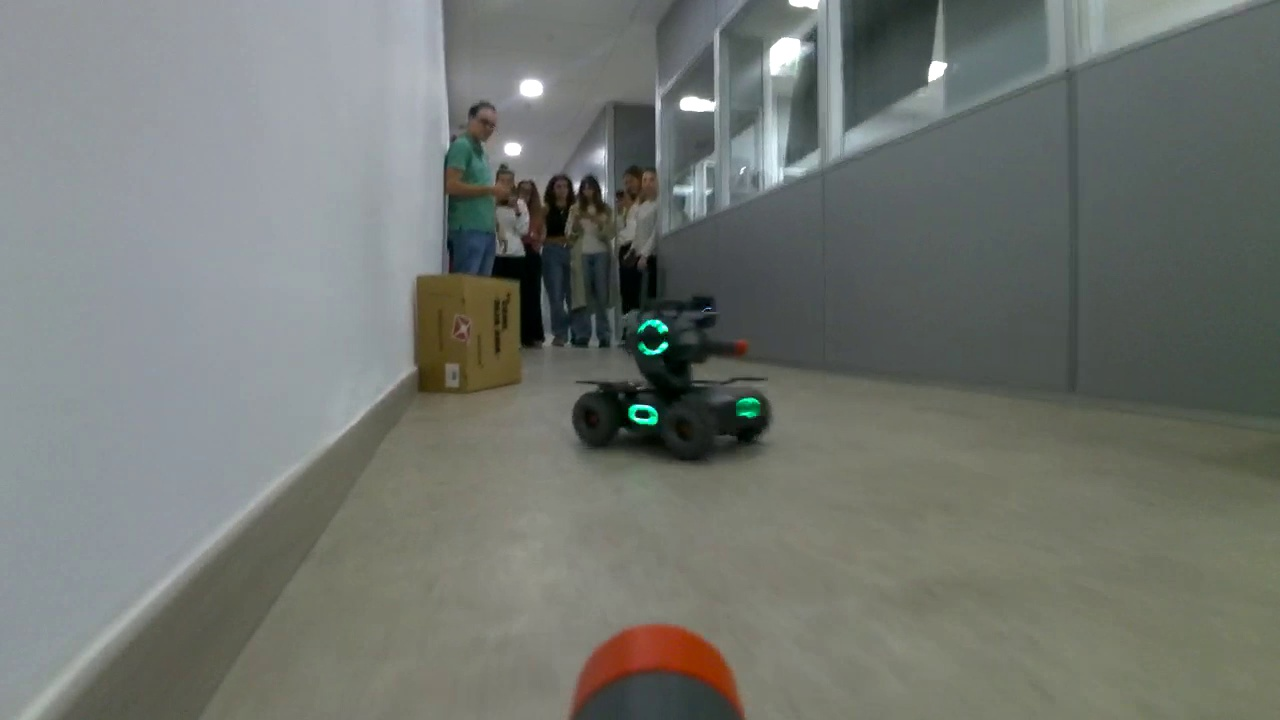robot: (570, 294, 778, 463)
